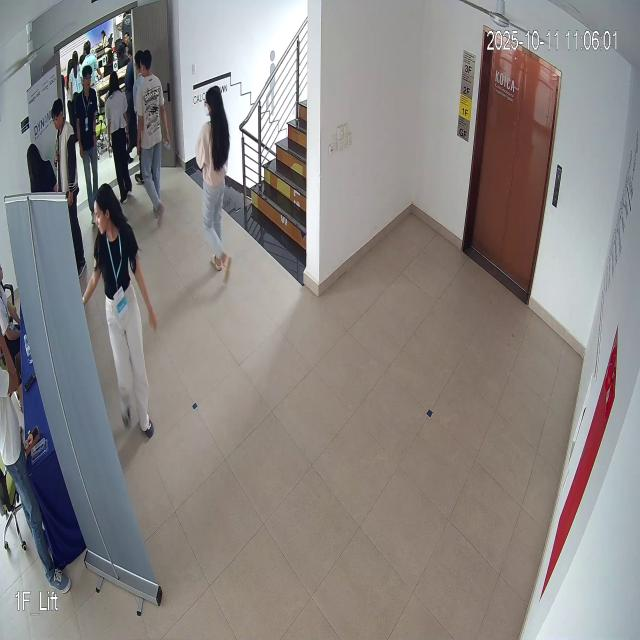face: (89, 175, 120, 245)
